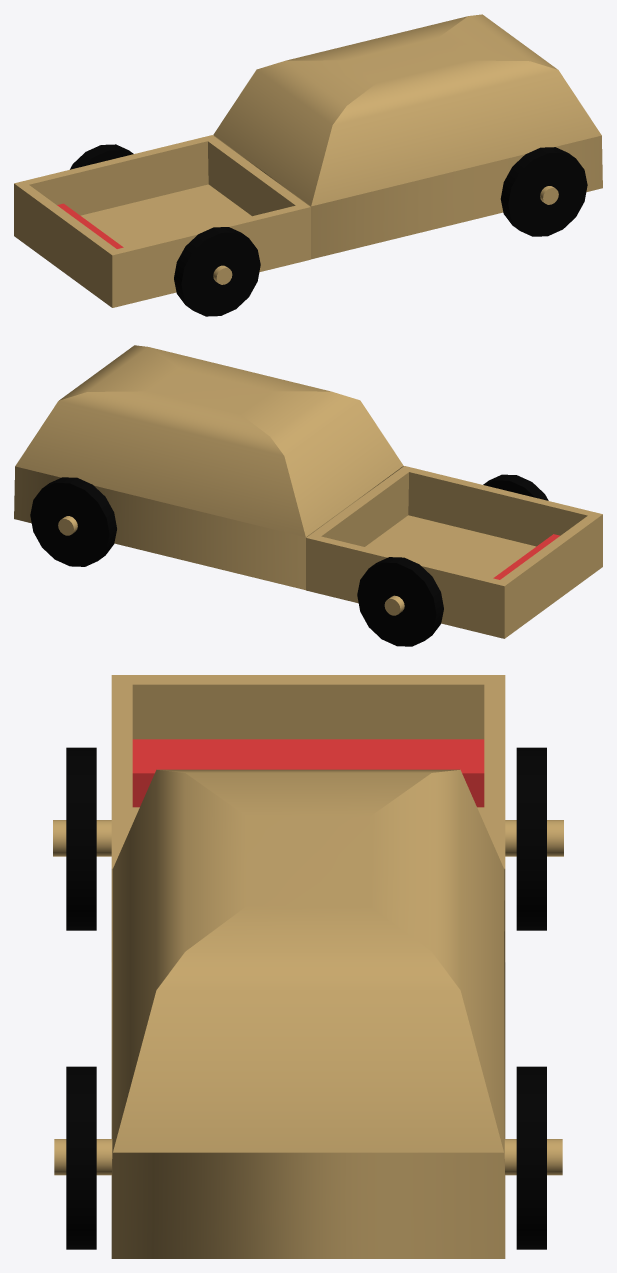
The model's file is toycar.fbx.
3 views of the same model, one above another, from view 1: azimuth 30°, elevation 25°; view 2: azimuth 150°, elevation 25°; view 3: azimuth 270°, elevation 25° (orthographic). The views are drawn at different scales.
Parts seen in each view (by area): view 1: Cube; view 2: Cube; view 3: Cube.
Boxes of the visible parts, x1,y1,x2,y2 form: Cube: (14, 14, 602, 316); Cube: (14, 345, 602, 646); Cube: (53, 675, 563, 1258).
Size of the model in its own units: 531 by 156 by 240.
